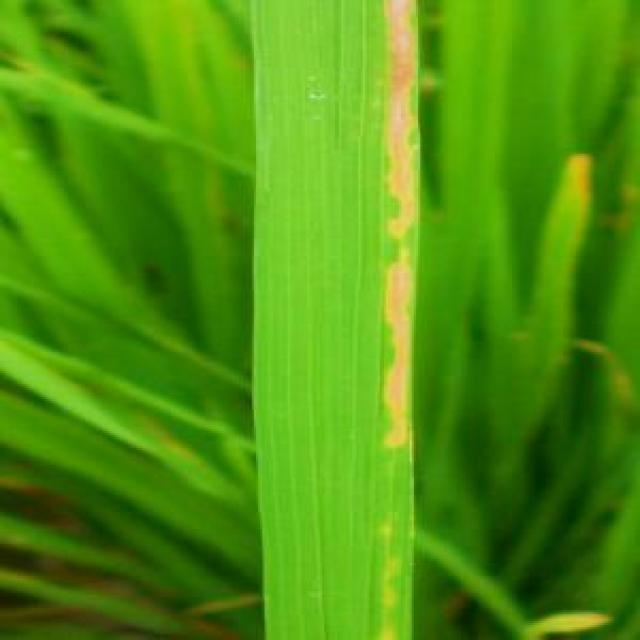Rice_Bacterial_Blight: (243, 0, 416, 638)
